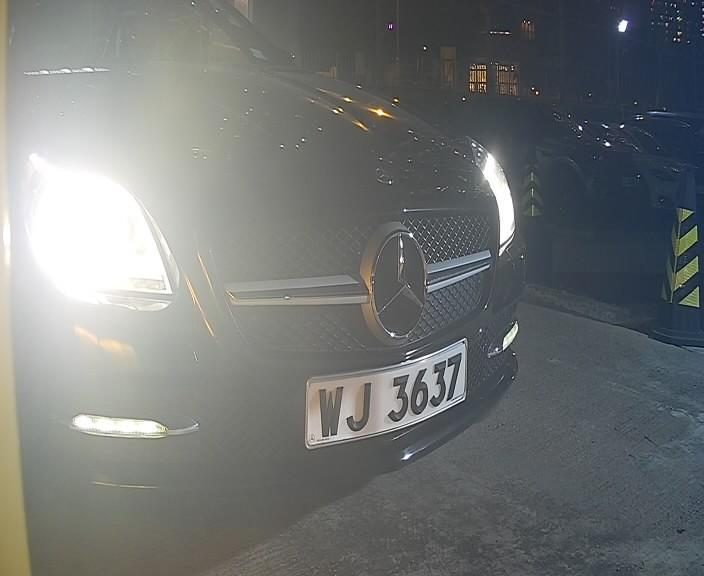License Plate: (302, 340, 475, 448)
